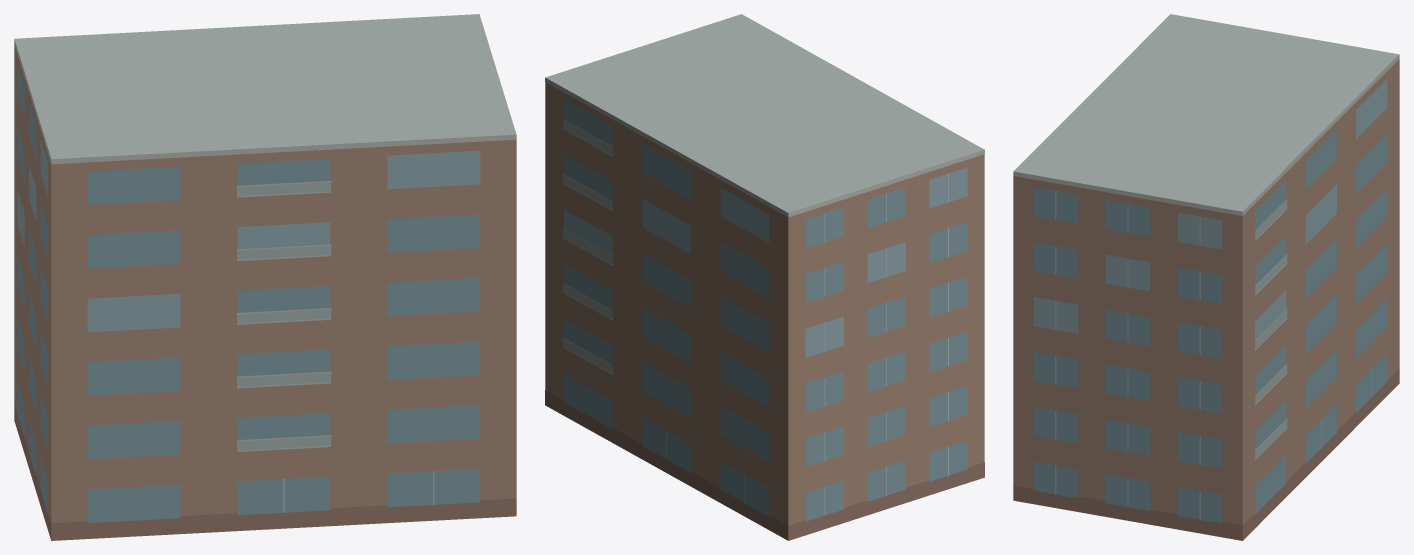
The model's file is survey-upis-32729217.glb.
The picture shows the model from 3 angles, left to right: view 1: azimuth 30°, elevation 25°; view 2: azimuth 150°, elevation 25°; view 3: azimuth 270°, elevation 25°; orthographic projection. The views are drawn at different scales.
Parts seen in each view (by area): view 1: survey-upis-32729217.tmp; view 2: survey-upis-32729217.tmp; view 3: survey-upis-32729217.tmp.
Part boxes in pixels (<box>): survey-upis-32729217.tmp: <box>14,14,516,540</box>; survey-upis-32729217.tmp: <box>545,14,984,540</box>; survey-upis-32729217.tmp: <box>1013,14,1399,540</box>.
Bounding box in the file's own units: 23.59 × 18.3 × 19.47.
